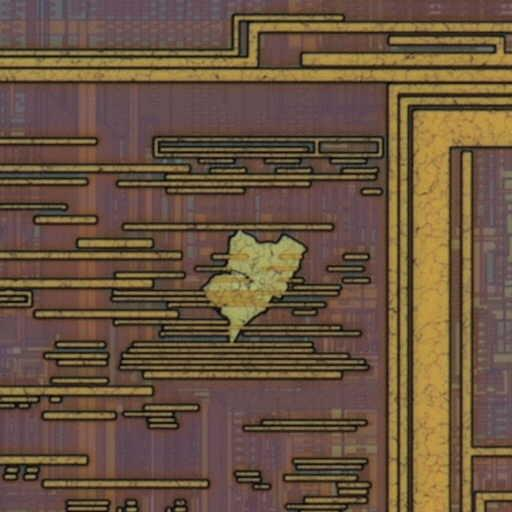BLOCK ETCH: (195, 226, 315, 349)
